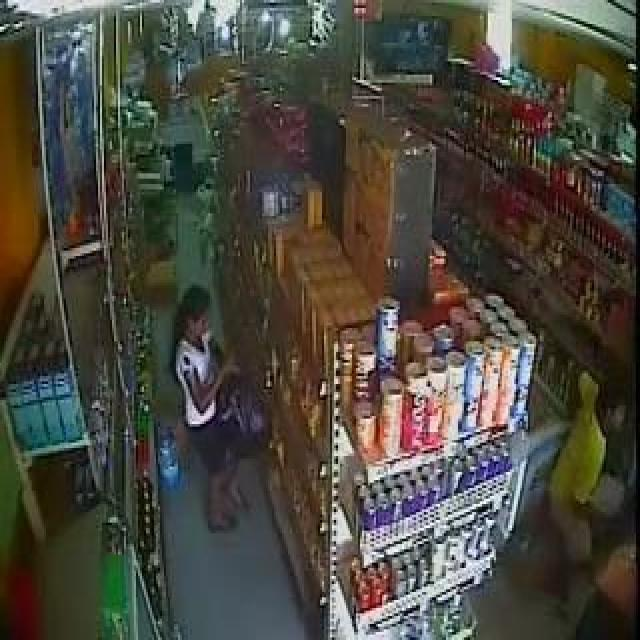Shoplifting: (147, 251, 300, 594)
